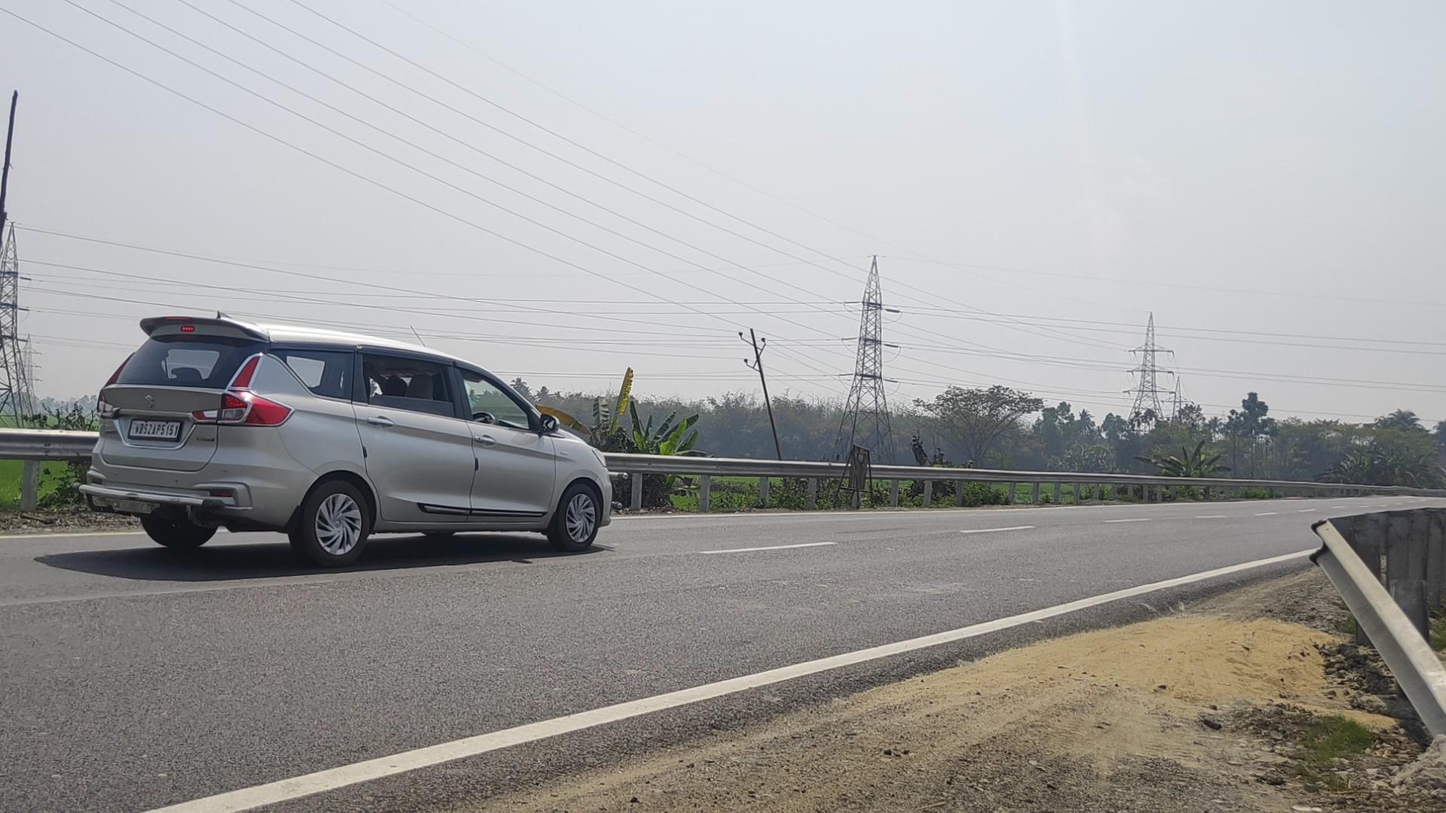car: (79, 312, 629, 569)
